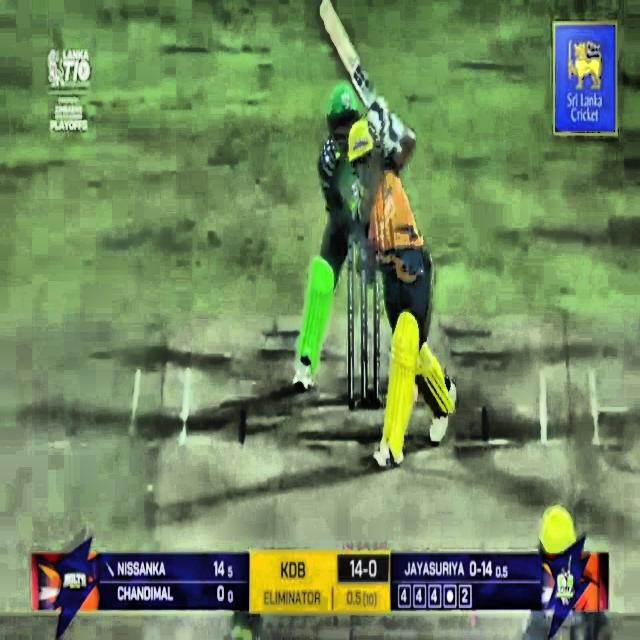Left-stump: (349, 242, 353, 409)
Middle-stump: (361, 252, 366, 408)
Right-stump: (374, 257, 379, 404)
